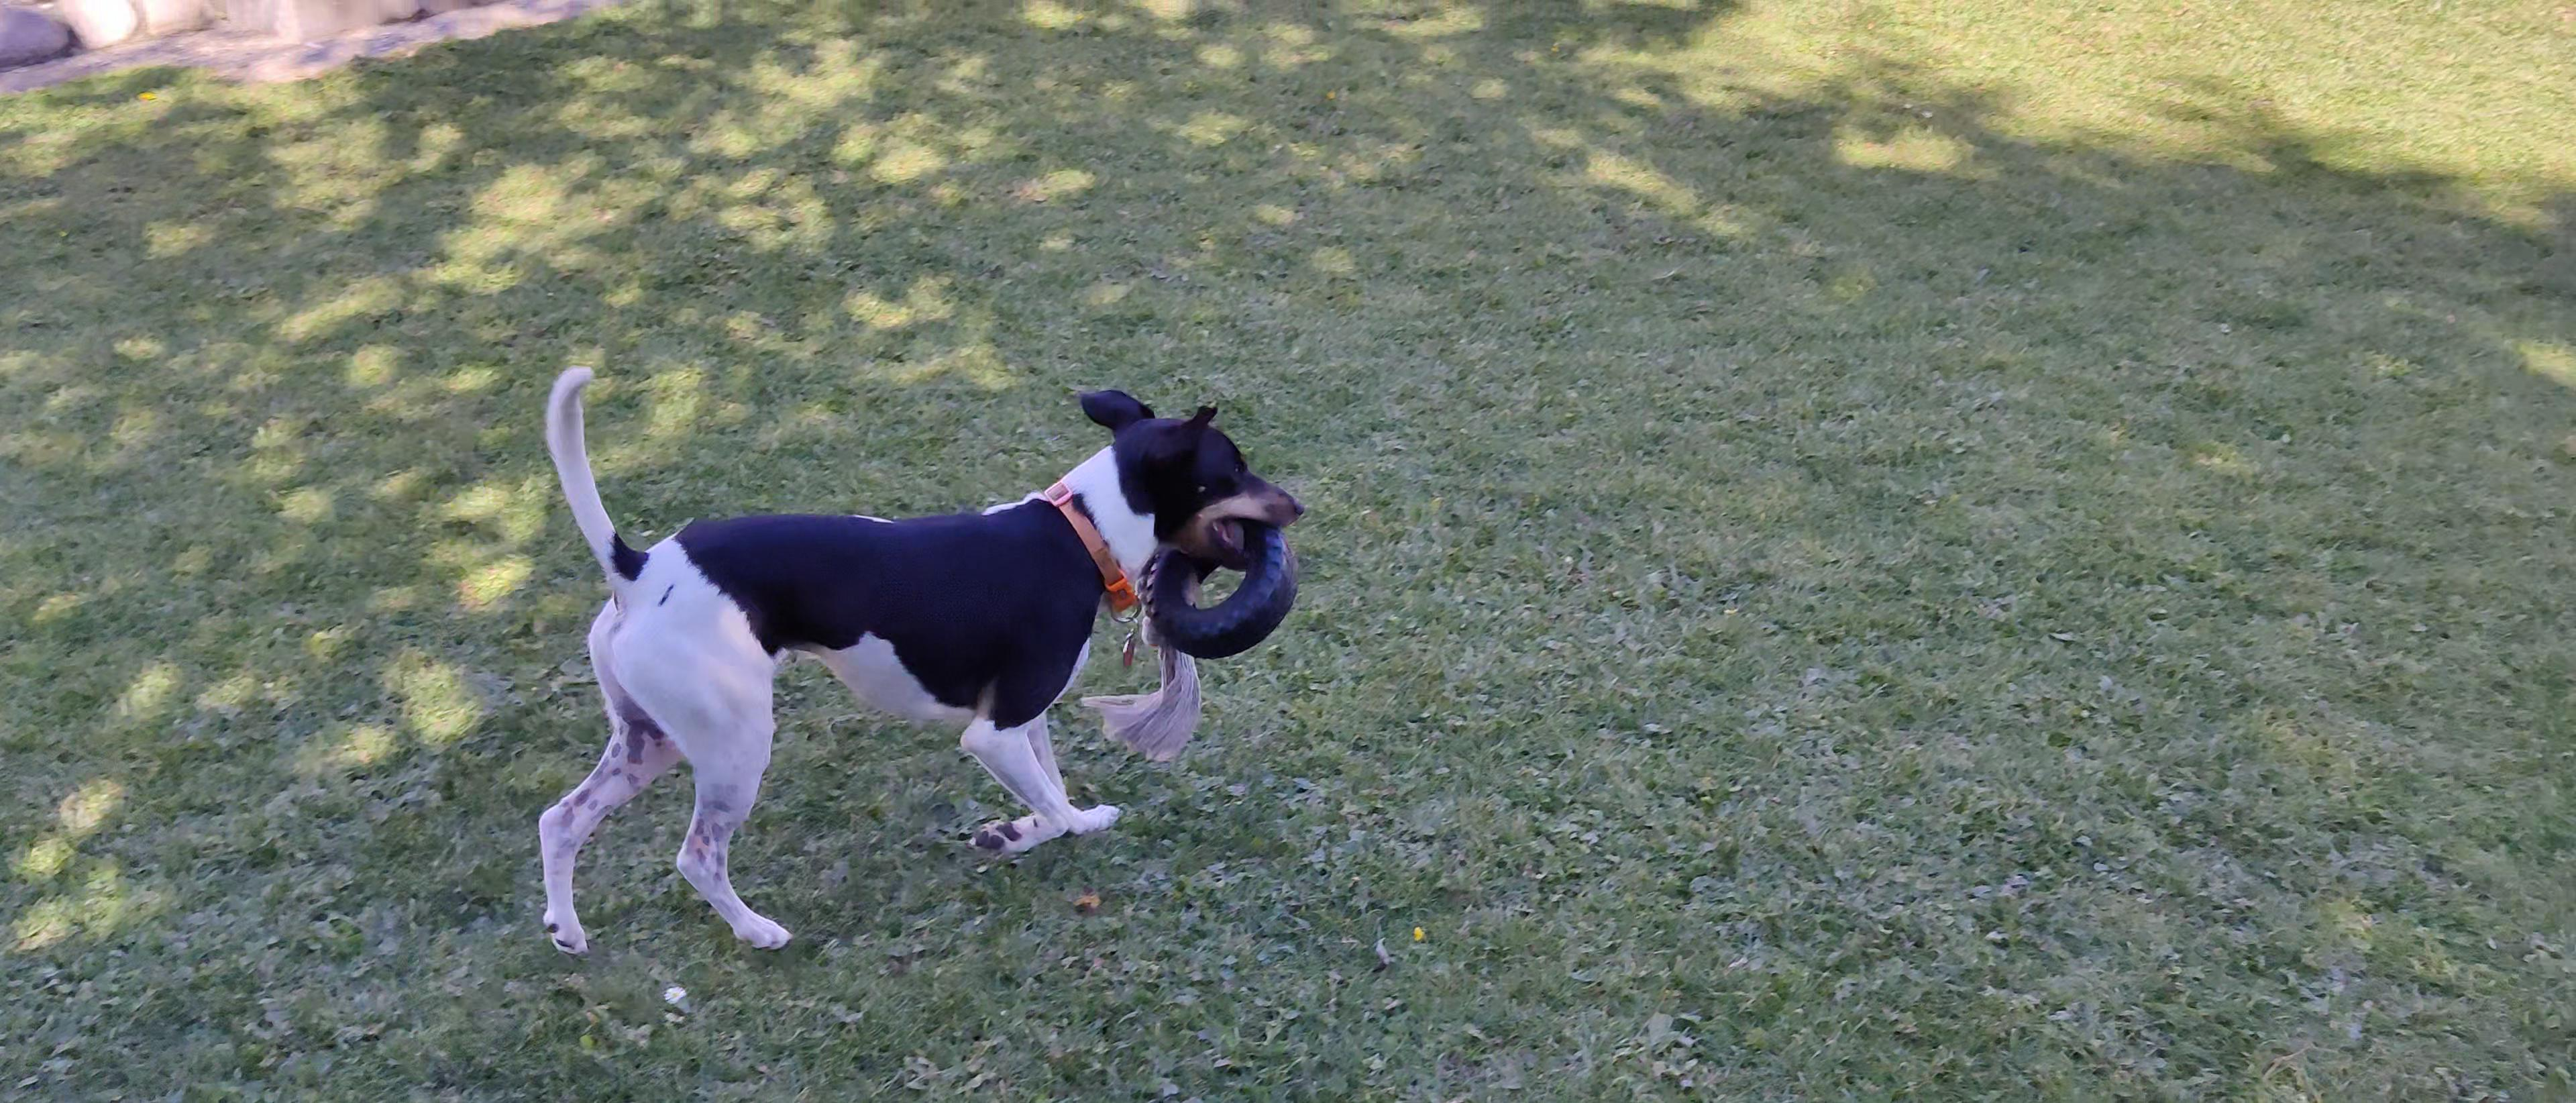Dog: (522, 344, 1308, 952)
